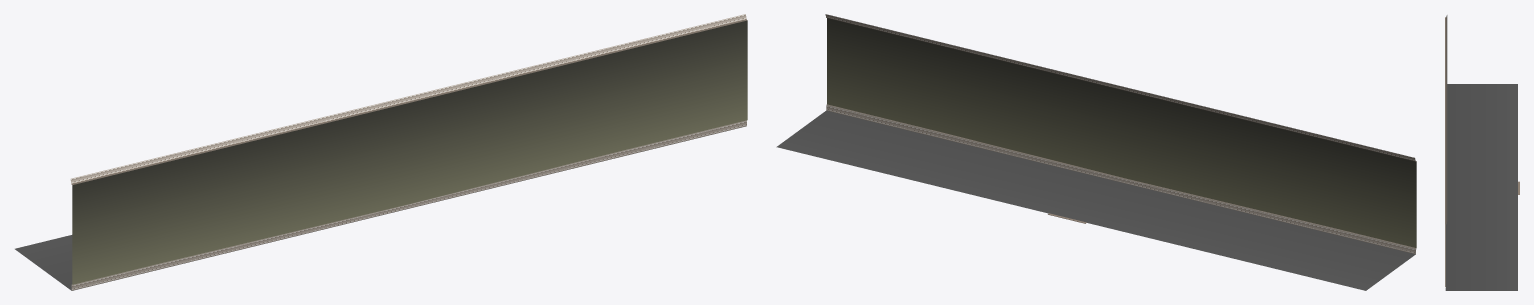
File: SM_Hallway.fbx
3 renders of one model, left to right at view 1: azimuth 30°, elevation 25°; view 2: azimuth 150°, elevation 25°; view 3: azimuth 270°, elevation 25°, orthographic. The views are drawn at different scales.
Parts seen in each view (by area): view 1: SM_hallway; view 2: SM_hallway; view 3: SM_hallway.
Boxes of the visible parts, left/top/right/bottom form: SM_hallway: left=15, top=14, right=747, bottom=290; SM_hallway: left=776, top=14, right=1416, bottom=290; SM_hallway: left=1445, top=15, right=1519, bottom=290.
Size of the model in its own units: 1872 by 295 by 286.
